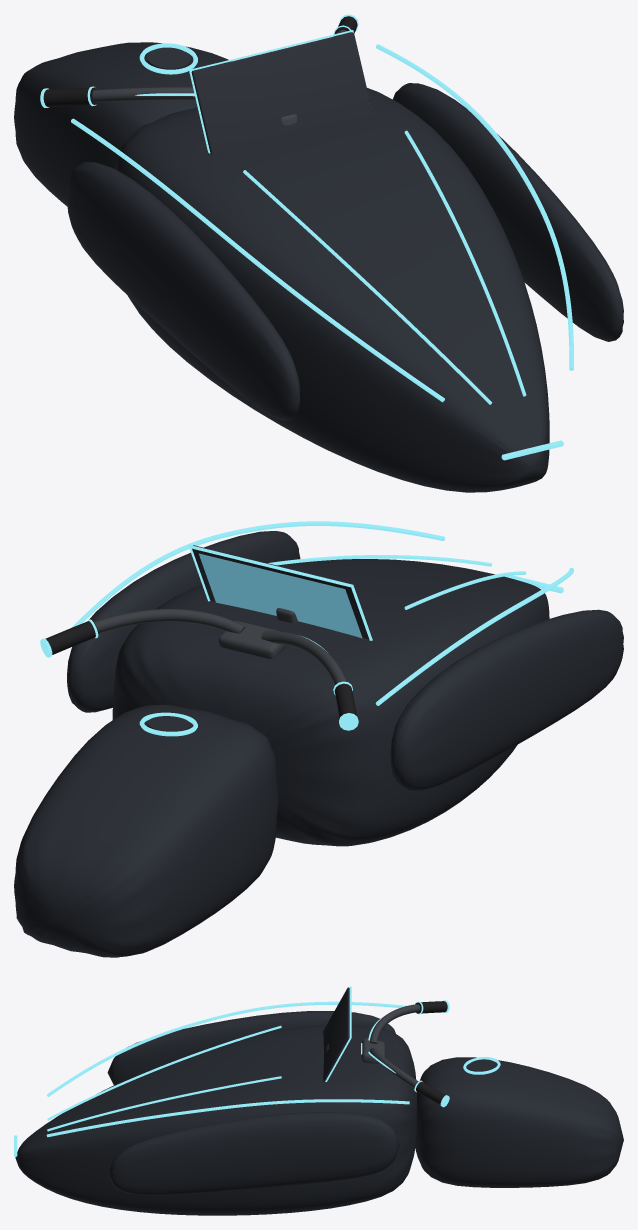
The model's file is cockpit.glb.
3 renders of one model, top to bottom at view 1: azimuth 30°, elevation 25°; view 2: azimuth 150°, elevation 25°; view 3: azimuth 270°, elevation 25°, orthographic. The views are drawn at different scales.
Visible parts, largest first — view 1: Body, Panel, Trim, Metal, Grip; view 2: Body, Trim, Screen, Metal, Panel, Grip; view 3: Body, Trim, Panel, Metal, Grip.
Boxes of the visible parts, left/top/right/bottom form: Body: left=14, top=42, right=623, bottom=492; Panel: left=147, top=32, right=372, bottom=154; Trim: left=40, top=14, right=573, bottom=460; Metal: left=92, top=29, right=347, bottom=125; Grip: left=43, top=16, right=357, bottom=106; Body: left=14, top=531, right=623, bottom=957; Trim: left=40, top=521, right=573, bottom=736; Screen: left=198, top=553, right=362, bottom=638; Metal: left=94, top=608, right=346, bottom=684; Panel: left=147, top=545, right=372, bottom=731; Grip: left=45, top=620, right=356, bottom=718; Body: left=15, top=1011, right=623, bottom=1215; Trim: left=14, top=986, right=500, bottom=1156; Panel: left=323, top=987, right=495, bottom=1081; Metal: left=326, top=1004, right=420, bottom=1087; Grip: left=414, top=1001, right=447, bottom=1104.
Bounding box in the file's own units: 0.9678 × 0.7175 × 2.19.
